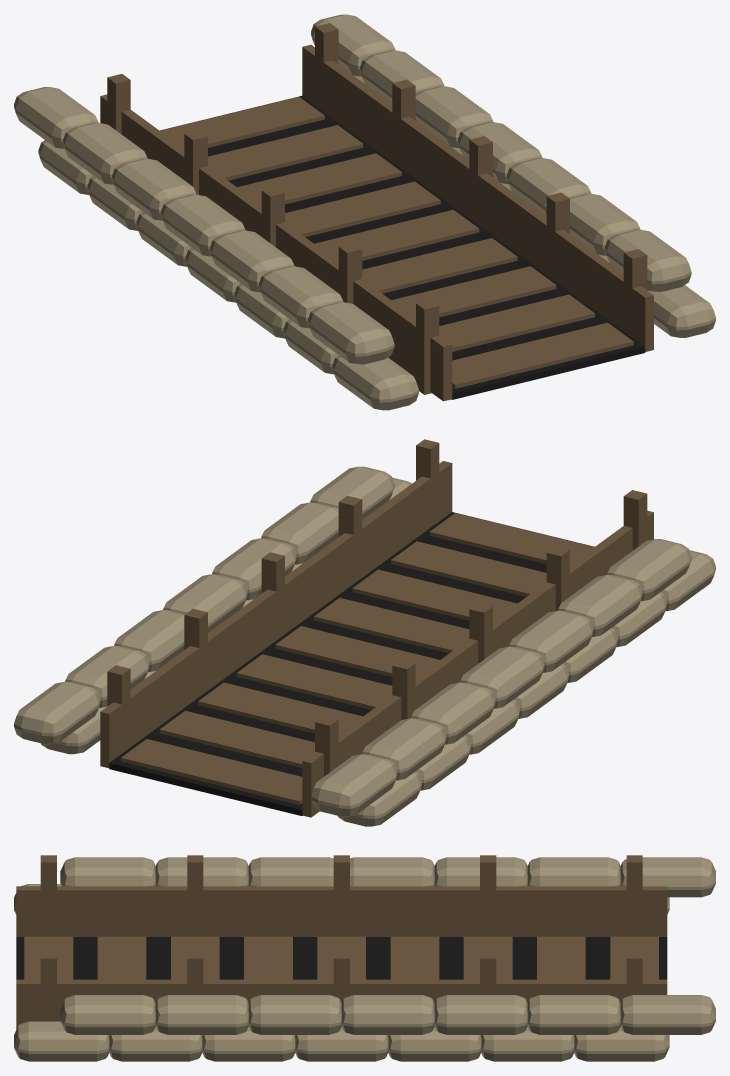
Rendered from Prop_Trench.fbx.
3 views of the same model, one above another, from view 1: azimuth 30°, elevation 25°; view 2: azimuth 150°, elevation 25°; view 3: azimuth 270°, elevation 25° (orthographic). The views are drawn at different scales.
Visible parts, largest first — view 1: Prop_Trench_Mesh; view 2: Prop_Trench_Mesh; view 3: Prop_Trench_Mesh.
Boxes of the visible parts, left/top/right/bottom form: Prop_Trench_Mesh: left=14, top=14, right=715, bottom=410; Prop_Trench_Mesh: left=14, top=439, right=715, bottom=826; Prop_Trench_Mesh: left=14, top=855, right=715, bottom=1061.
Size of the model in its own units: 2.32 by 0.55 by 4.31.
